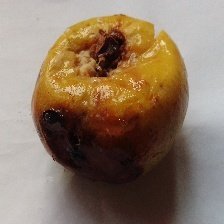guava: (32, 1, 180, 196)
